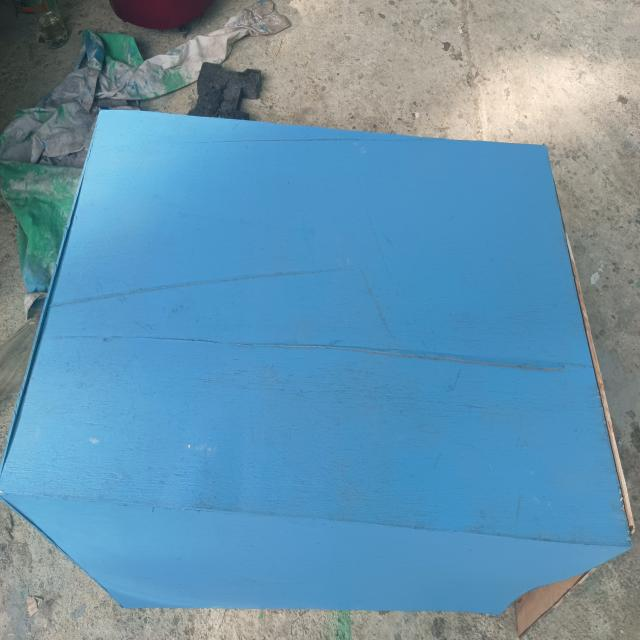blue_box: (1, 105, 633, 630)
